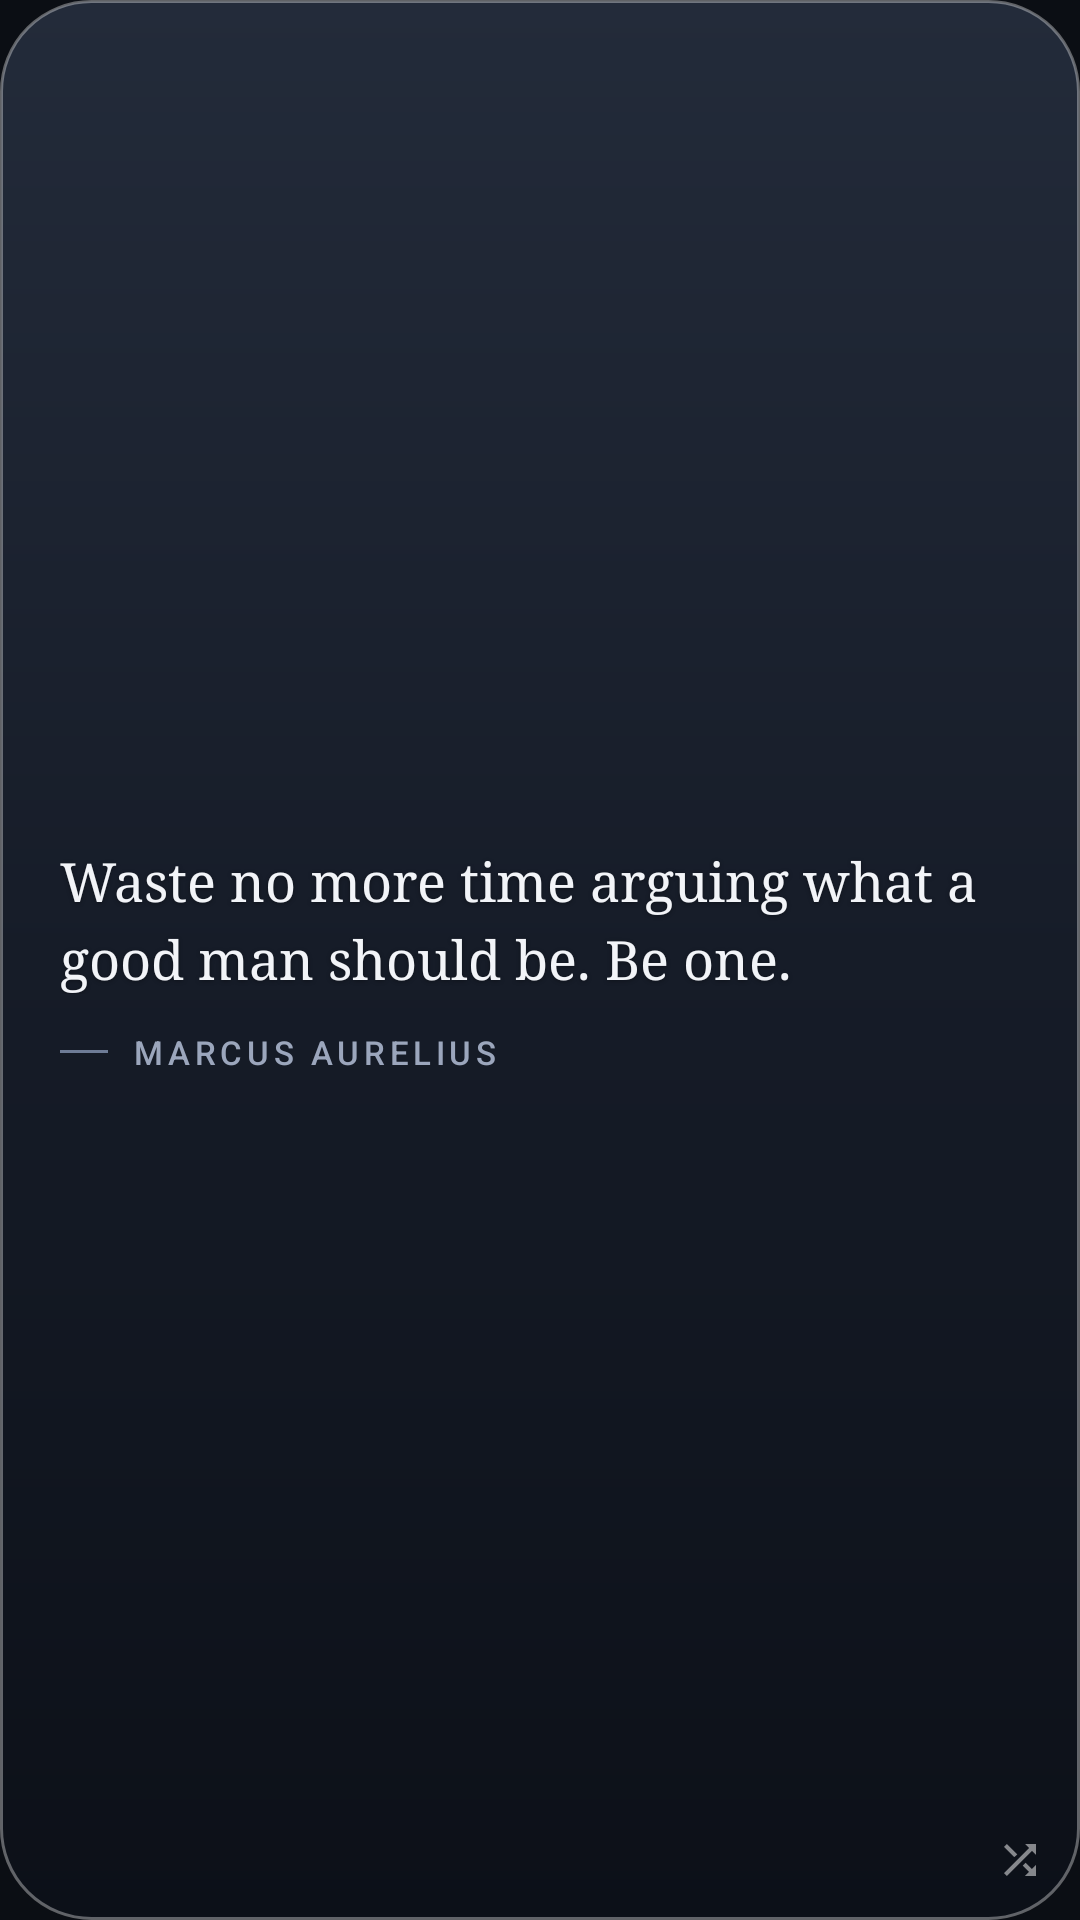

Icon click points for this 1080w x 1920h phone screenshot, format [x,y]:
Show another quote: [1020,1860]
